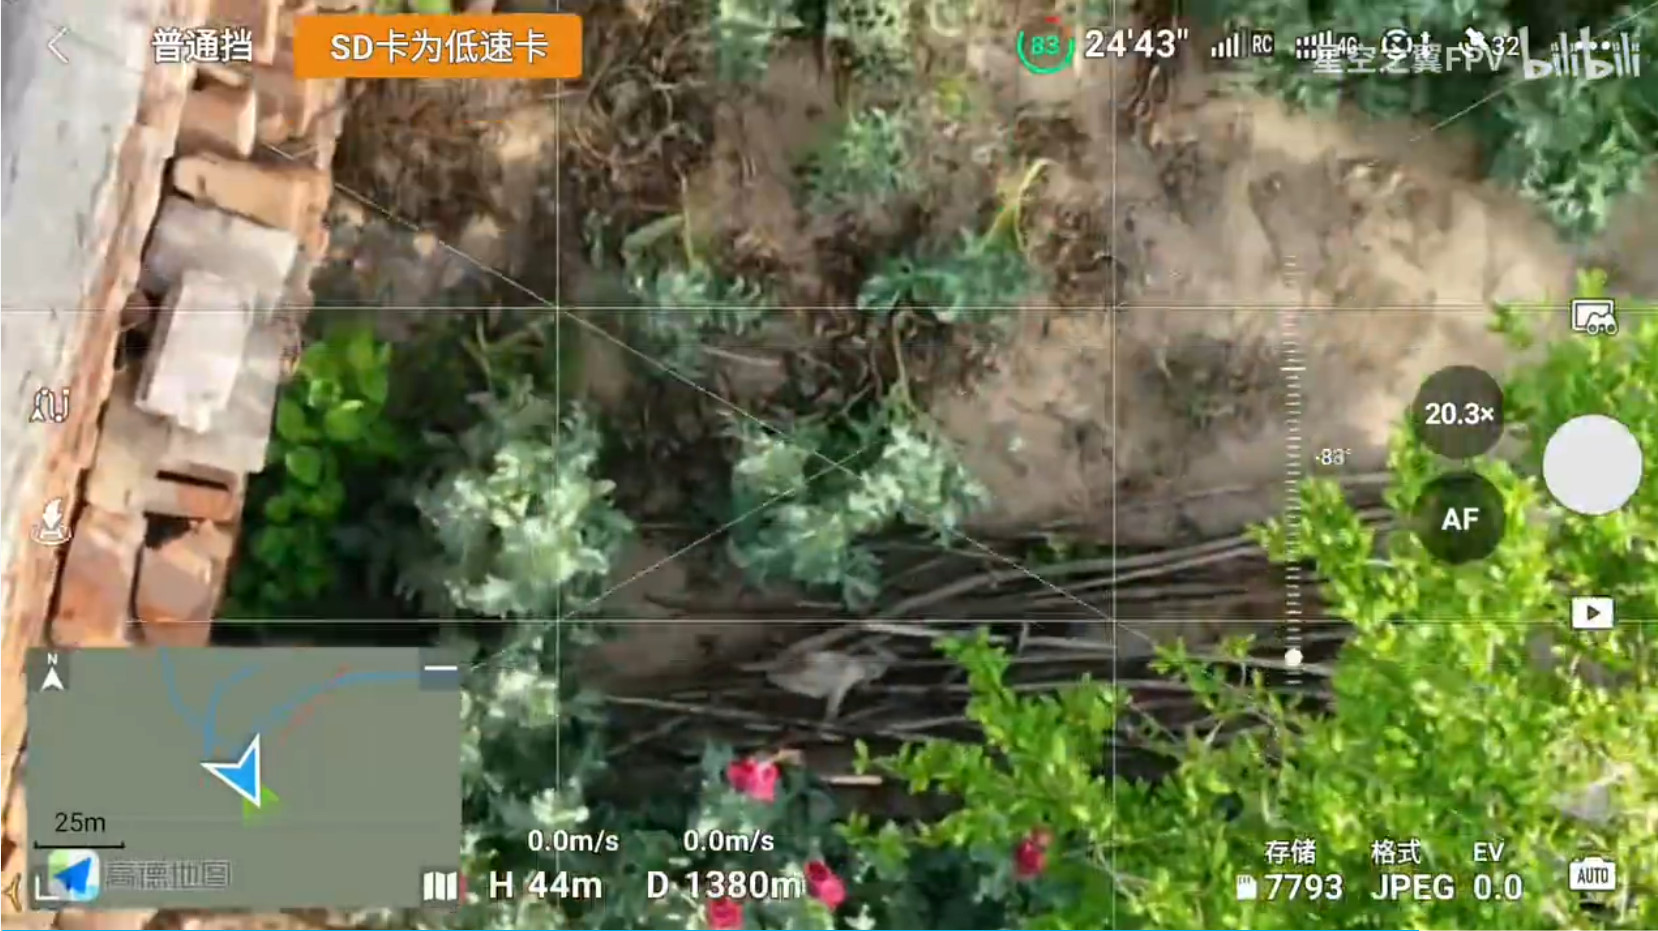Poppy: (397, 359, 650, 829), (704, 348, 971, 600), (615, 718, 905, 931), (861, 138, 1084, 333), (912, 764, 1134, 926), (787, 80, 935, 220), (701, 1, 933, 89)
